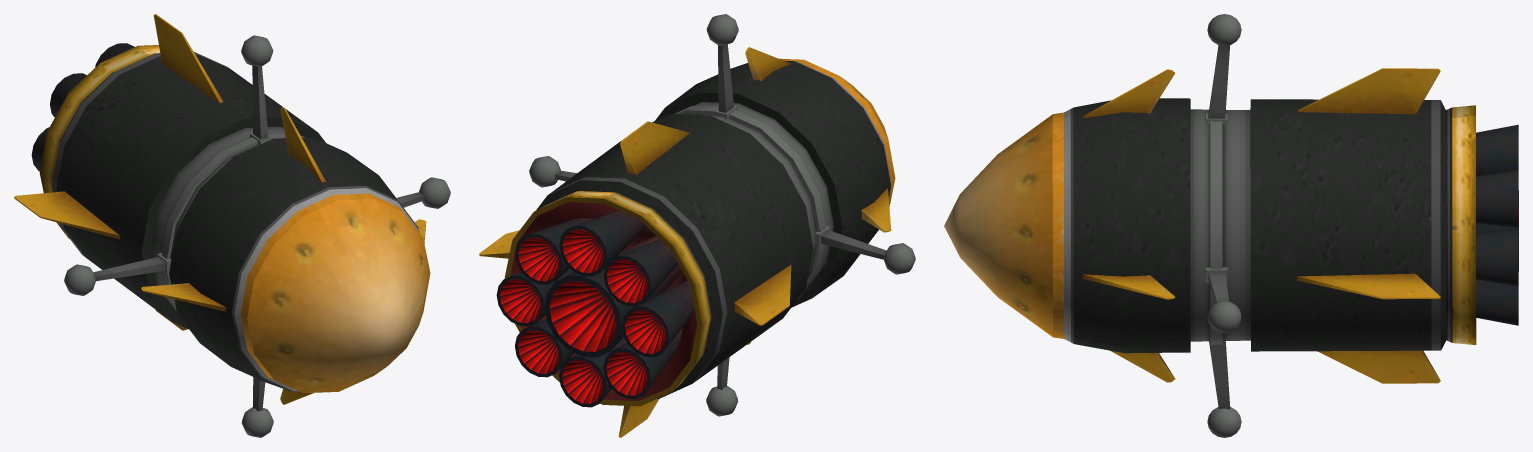
Rendered from missile.fbx.
The picture shows the model from 3 angles, left to right: view 1: azimuth 30°, elevation 25°; view 2: azimuth 150°, elevation 25°; view 3: azimuth 270°, elevation 25°; orthographic projection. The views are drawn at different scales.
Visible parts, largest first — view 1: node_id31; view 2: node_id31; view 3: node_id31.
Boxes of the visible parts, bbox=[...] form: node_id31: bbox=[14, 14, 450, 437]; node_id31: bbox=[479, 14, 915, 437]; node_id31: bbox=[944, 14, 1518, 437].
Bounding box in the file's own units: 0.512 × 0.512 × 0.6313.
1 material, 1 textured.
